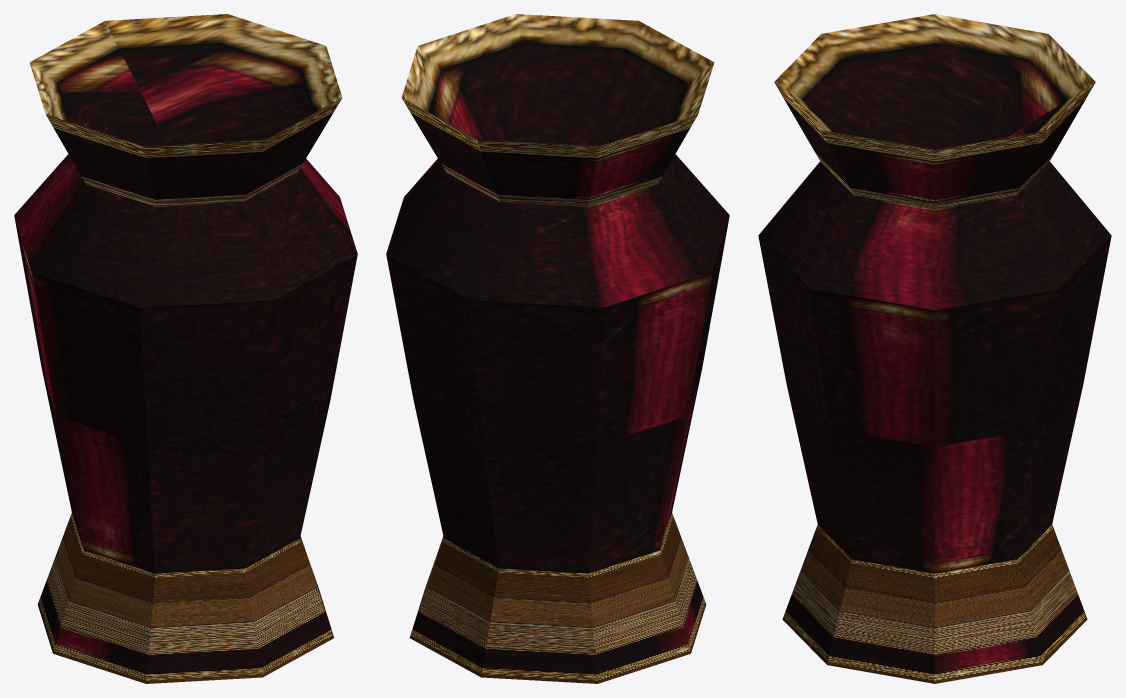
Rendered from mm9_deco_jar05.glb.
3 renders of one model, left to right at view 1: azimuth 30°, elevation 25°; view 2: azimuth 150°, elevation 25°; view 3: azimuth 270°, elevation 25°, orthographic.
Parts seen in each view (by area): view 1: Jar05; view 2: Jar05; view 3: Jar05.
Part boxes in pixels (<box>): Jar05: <box>14,14,357,683</box>; Jar05: <box>386,14,729,683</box>; Jar05: <box>758,14,1111,683</box>.
Bounding box in the file's own units: 0.3475 × 0.5834 × 0.3475.
Materials: 1 (1 with a texture image).
